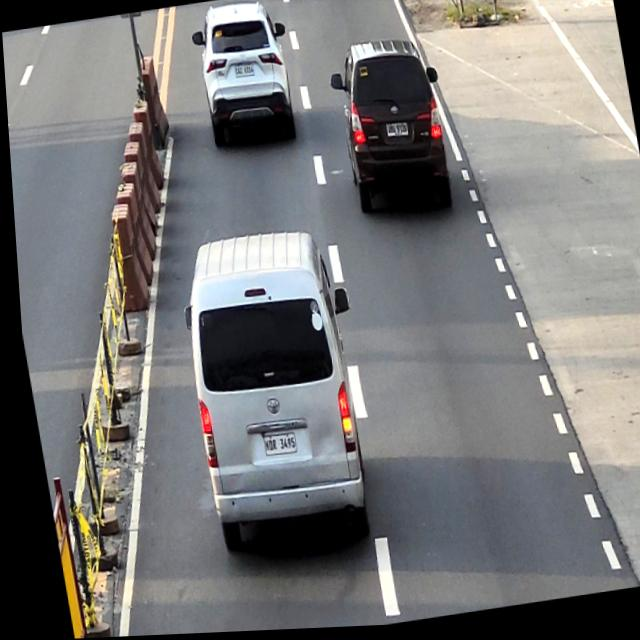Car: (163, 223, 382, 563), (322, 35, 457, 228), (186, 0, 303, 157)
License-Plate: (257, 435, 291, 458), (384, 124, 406, 142), (232, 64, 253, 80)
